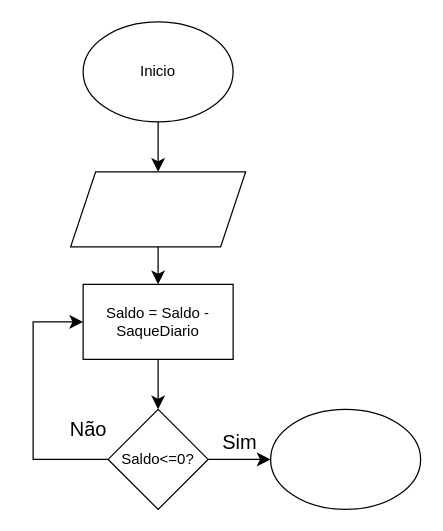
Image size: 443x531. Some labels were removed from this diagram. The centre of each missing label's shape, as x and y in pixels:
"Saldo" = 500 "SaqueDiario" = 20: the point at 157,209
Fim: the point at 345,458
